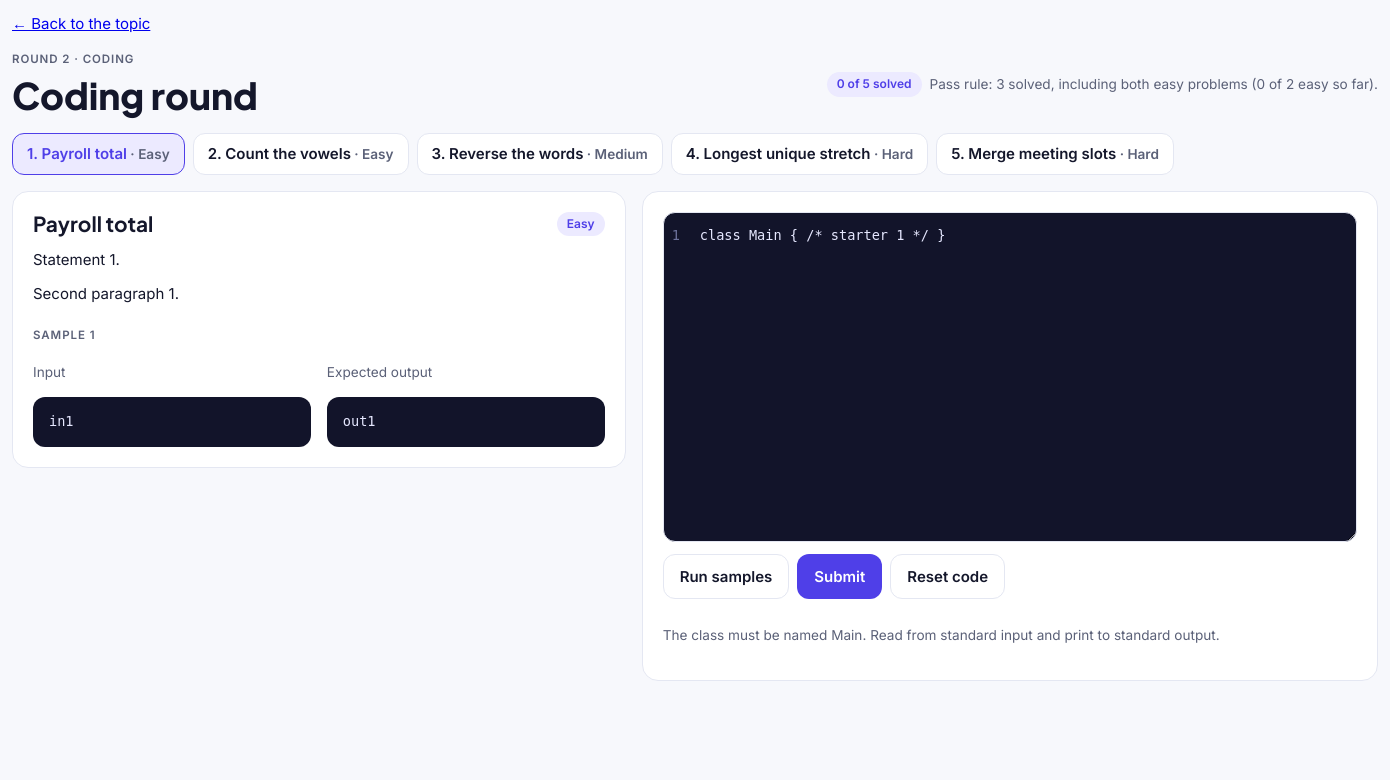
Scenario: writing and running code › Run sends the code in RUN mode and shows the result without solving the problem
Expected: the heading "Payroll total" is shown, x1=33 y1=212 x2=153 y2=236
Click the button "Run samples": (726, 577) x1=663 y1=554 x2=789 y2=599
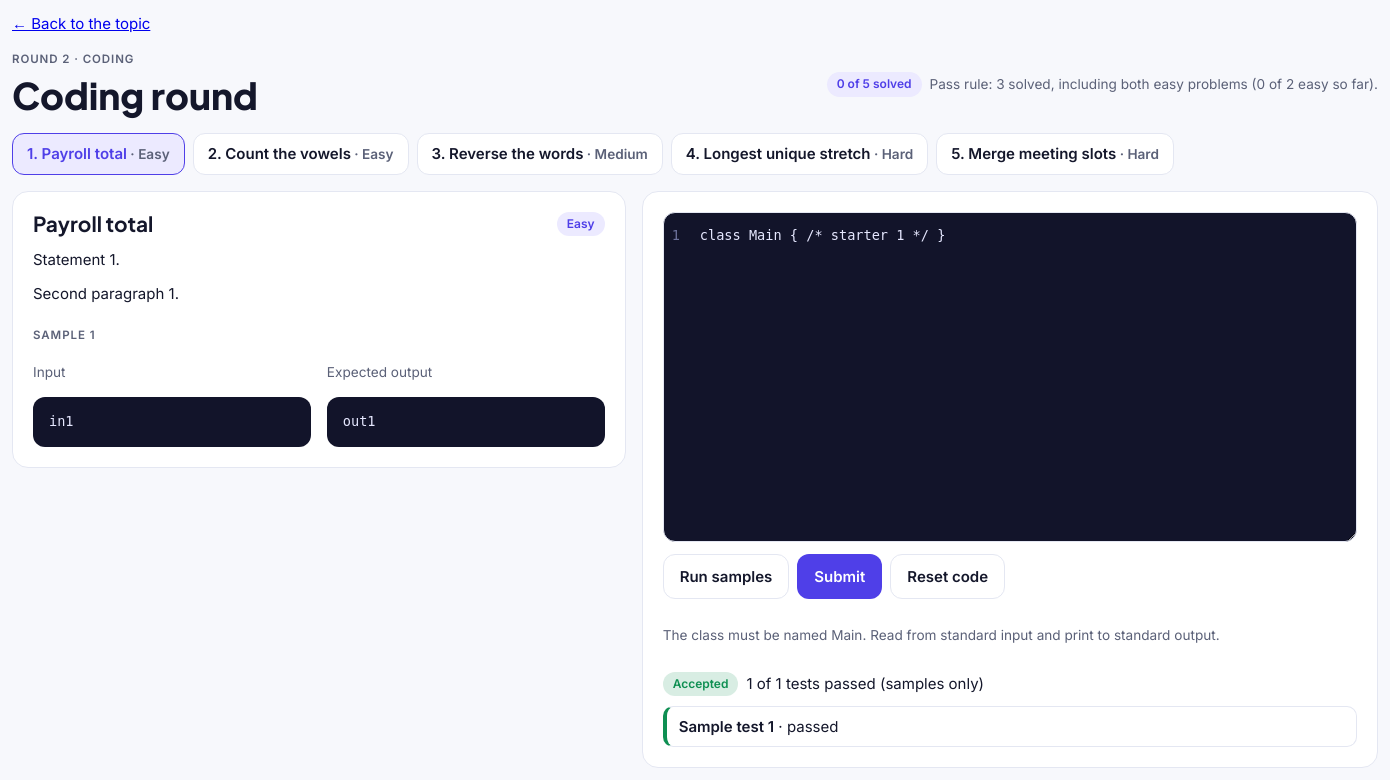
Expected: the text "Accepted" is shown, x1=663 y1=672 x2=738 y2=696
Expected: the text "1 of 1 tests passed (samples only)" is shown, x1=746 y1=672 x2=984 y2=696
